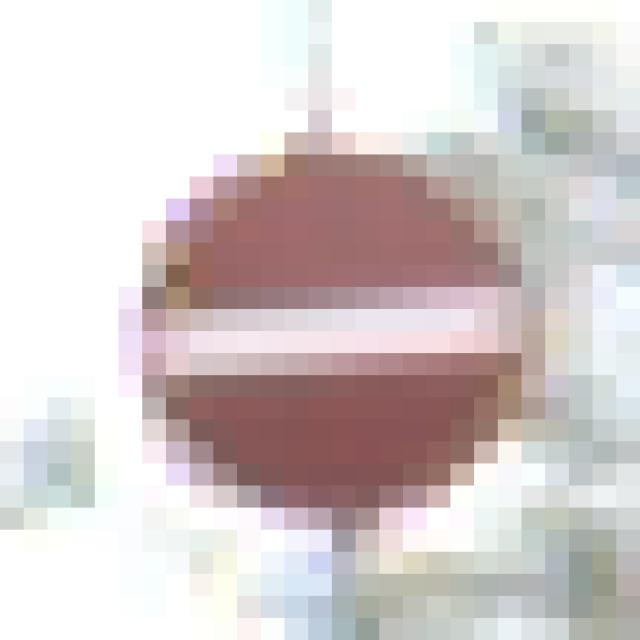No Entry: (120, 134, 523, 531)
